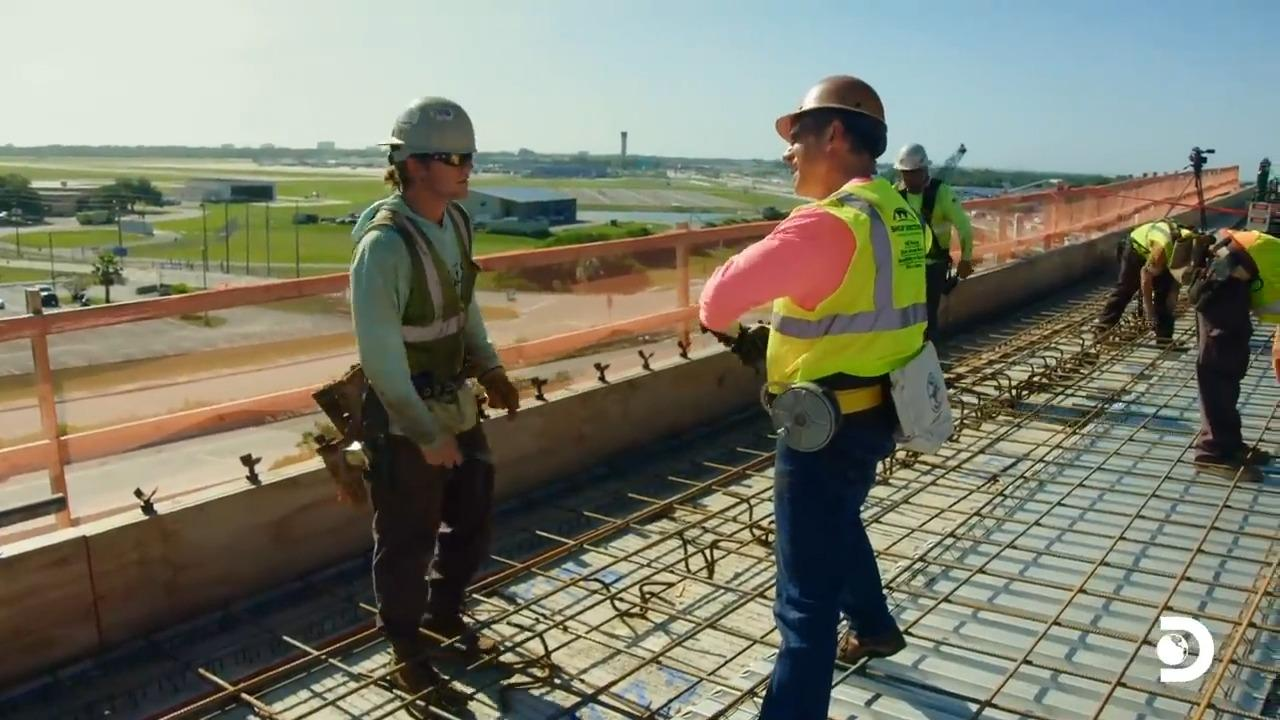Gloves: (479, 374, 539, 423), (722, 326, 776, 369)
Helmet: (774, 74, 887, 157), (377, 95, 476, 163), (893, 142, 932, 171)
Person: (697, 73, 933, 719), (347, 95, 519, 700), (1186, 226, 1279, 469), (890, 142, 974, 348), (1090, 217, 1195, 345)
Safety Boot: (381, 655, 461, 719), (827, 616, 911, 655), (1191, 437, 1273, 470)
Safety Vest: (776, 206, 904, 385), (356, 228, 470, 373), (915, 186, 956, 247), (1137, 224, 1172, 265)
bare-arms: (418, 428, 472, 468)
